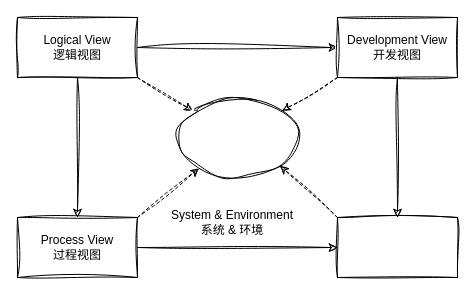
Image size: 475x295. Some labels were removed from this diagram. Each missing label, with the centre of its shape:
"Physical View 物理视图" belongs at point (397, 247).
"Scenarios 场景" belongs at point (237, 137).
